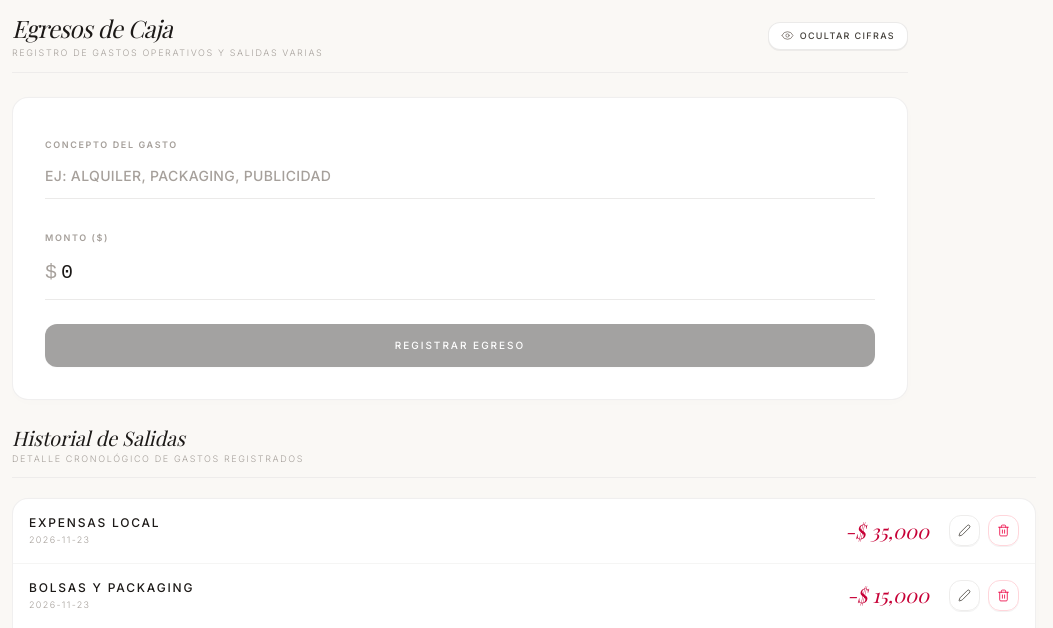
Test: Pruebas de Eliminaciones de Datos y Control de Detalles › 1. Eliminaciones de Datos › 1.4 En Egresos (Expenses): confirmación en dos pasos y recálculo financiero de Ganancia Neta al eliminar un gasto
Later steps or results of the test are not shown.
# Primer clic sobre el primer gasto (exp-2: $35.000)
Click the button titled "Eliminar" next to "-$ 35,000": (1004, 531) [988,515,1019,546]
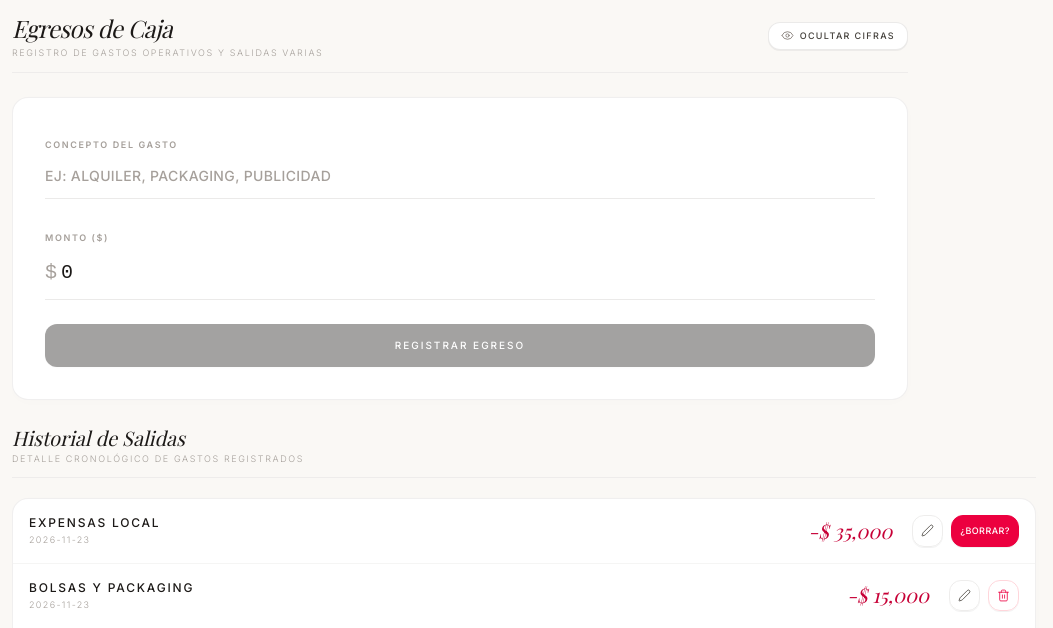
Check: the text "¿Borrar?" is shown, box [960,524,1010,538]
